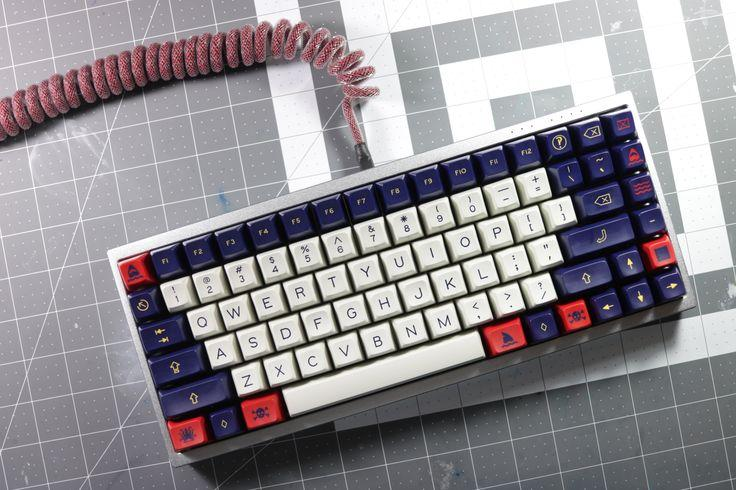keyboard: (105, 90, 696, 467)
